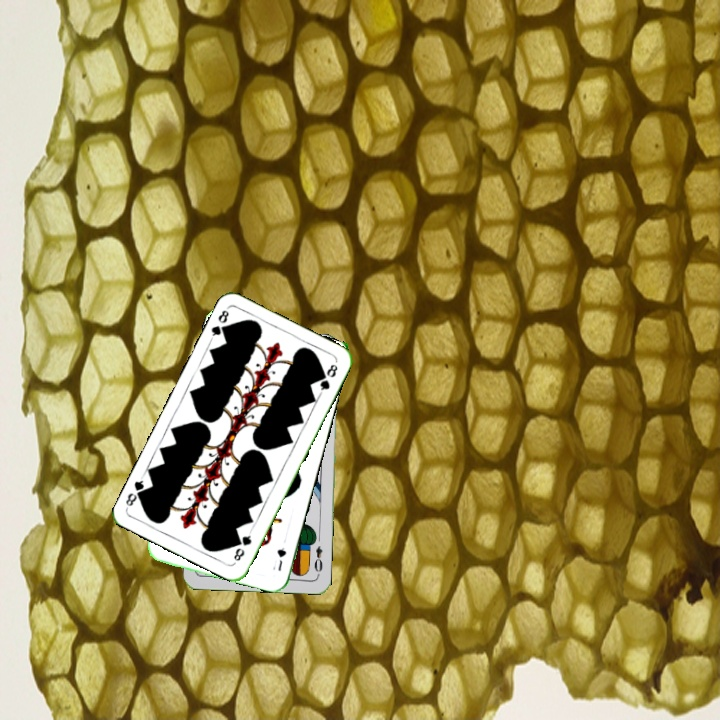EO: (310, 542, 325, 578)
G8: (206, 304, 231, 342), (229, 527, 254, 564)
GU: (273, 543, 289, 574)
